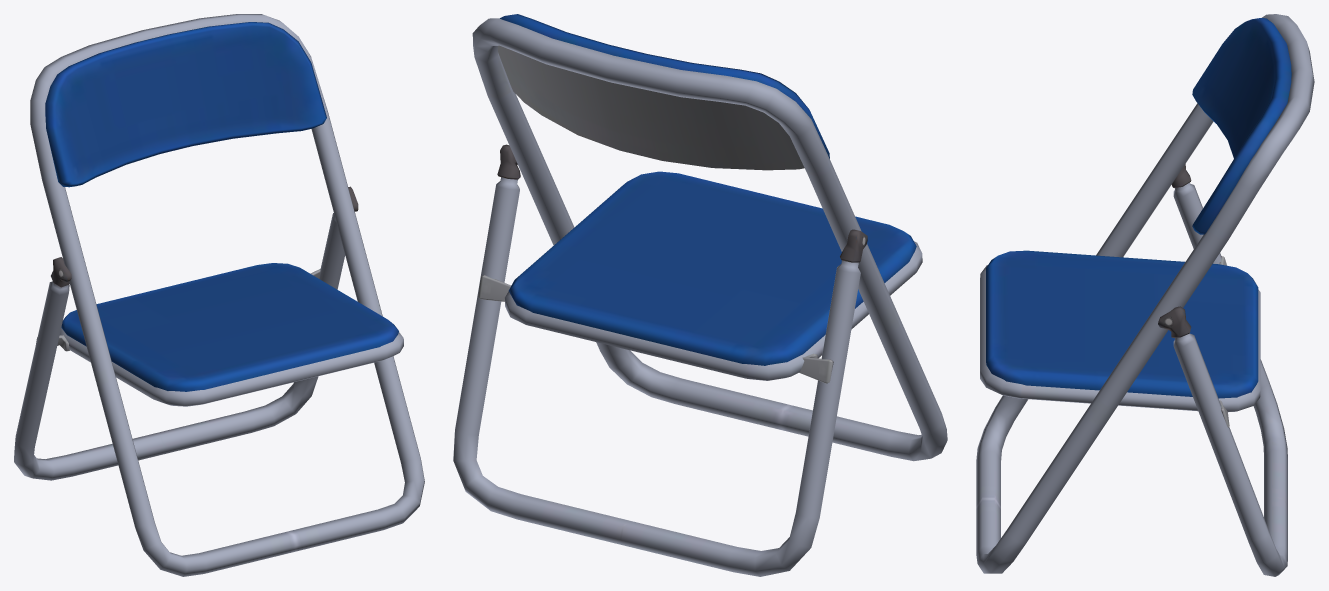
The picture shows the model from 3 angles, left to right: view 1: azimuth 30°, elevation 25°; view 2: azimuth 150°, elevation 25°; view 3: azimuth 270°, elevation 25°; orthographic projection. The views are drawn at different scales.
Size of the model in its own units: 7.07 by 9.23 by 6.29.
Materials: 1 (1 with a texture image).
